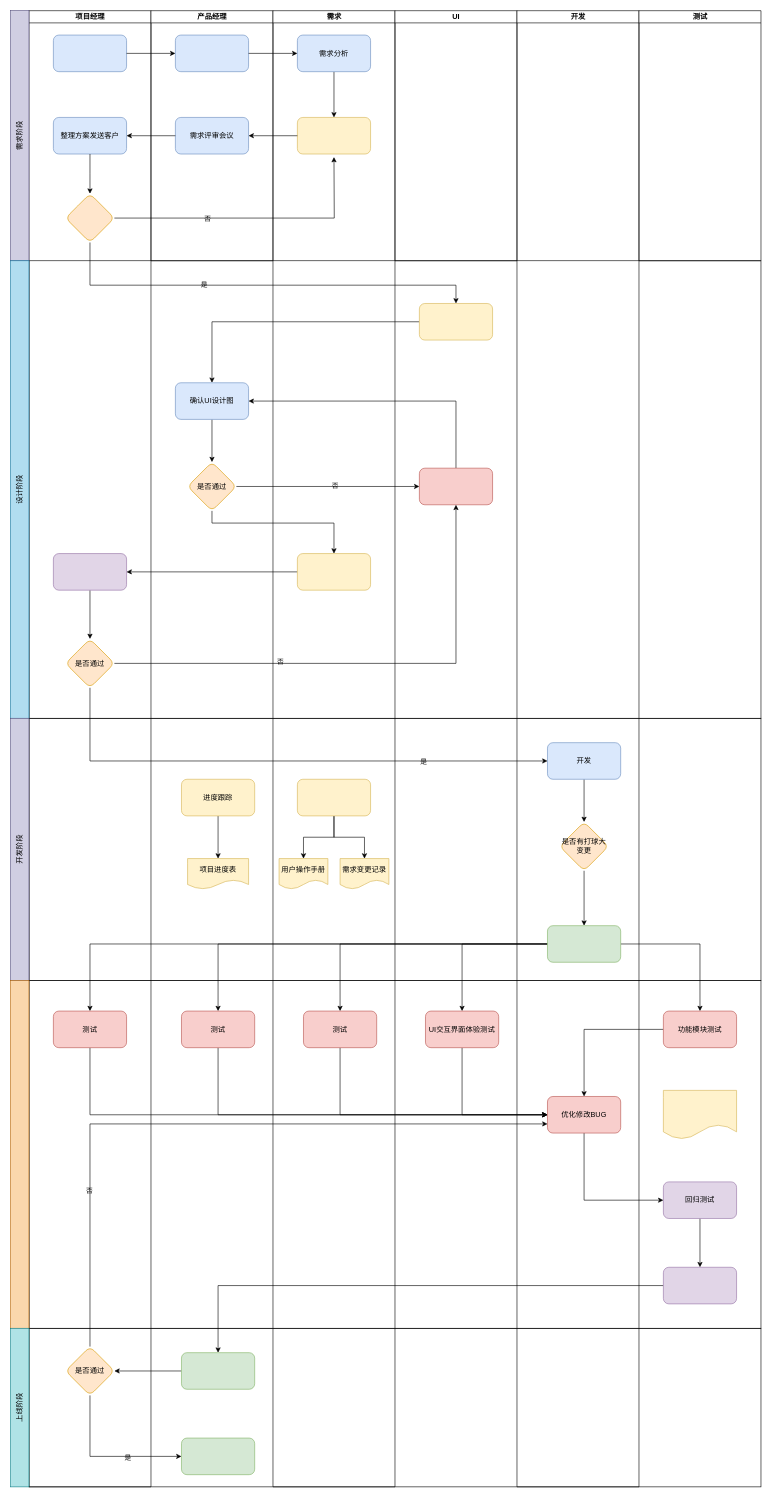
The diagram is 772 pixels wide and 1498 high, and some of its shapes have lost their labels. The centre of each missing label's shape, as x and y in pixels:
"UI设计图" belongs at pixel 456 321.
"修改UI图" belongs at pixel 456 486.
"制作原型图及模块需求文档" belongs at pixel 334 571.
"功能模块开发完毕" belongs at pixel 584 943.
"功能清单列表" belongs at pixel 334 135.
"原型发送客户确认" belongs at pixel 90 571.
"商务洽谈" belongs at pixel 90 53.
"是否满足客户" belongs at pixel 89 217.
"正式上线" belongs at pixel 218 1456.
"测试完毕" belongs at pixel 700 1285.
"测试用例" belongs at pixel 700 1114.
"测试阶段" belongs at pixel 19 1154.
"编写操作手册及需求变更记录" belongs at pixel 334 797.
"需求调研" belongs at pixel 212 53.
"项目验收" belongs at pixel 218 1370.
